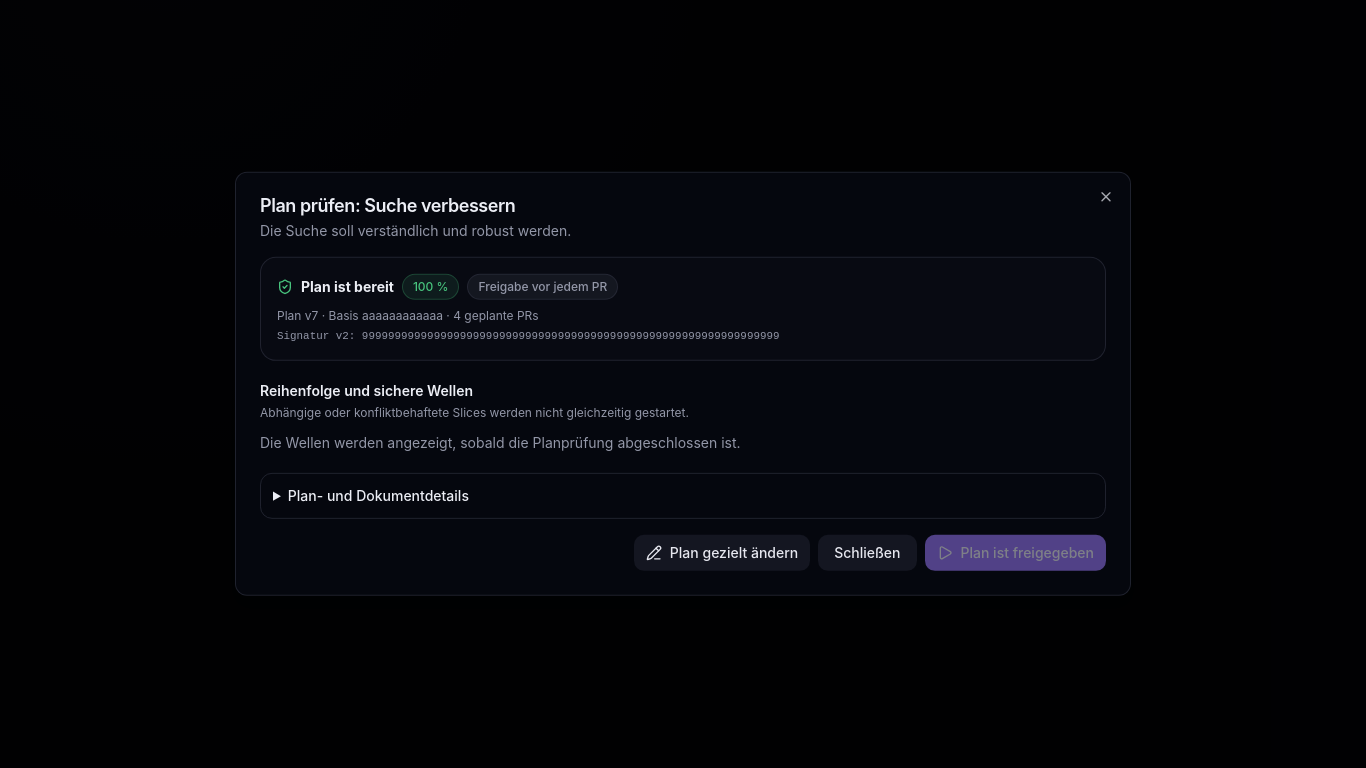
Test: bietet nur wirklich ungestartete ready Slices für eine Planänderung an
Click the button "Plan gezielt ändern": (722, 553) x1=634 y1=535 x2=810 y2=571
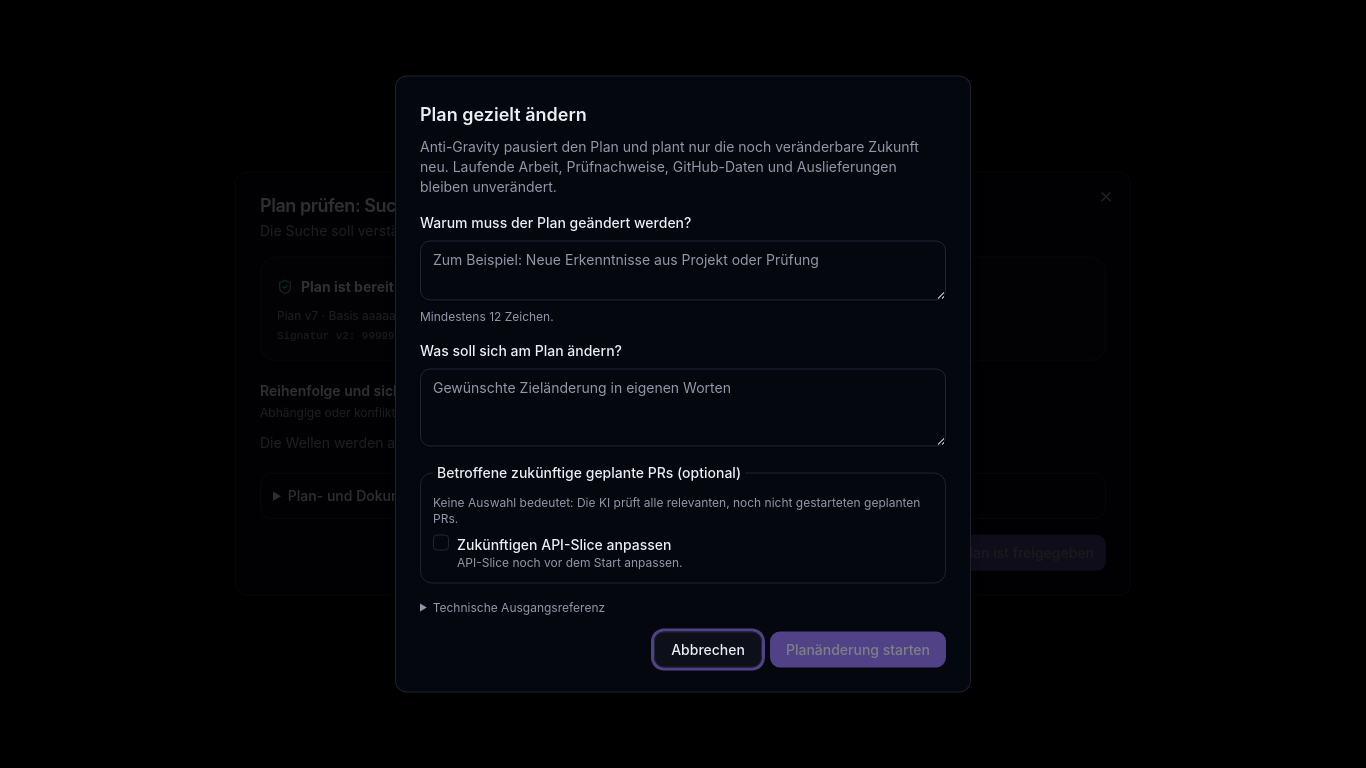
Result: the checkbox labelled "Zukünftigen API-Slice anpassen" is shown at x1=433 y1=534 x2=449 y2=550
